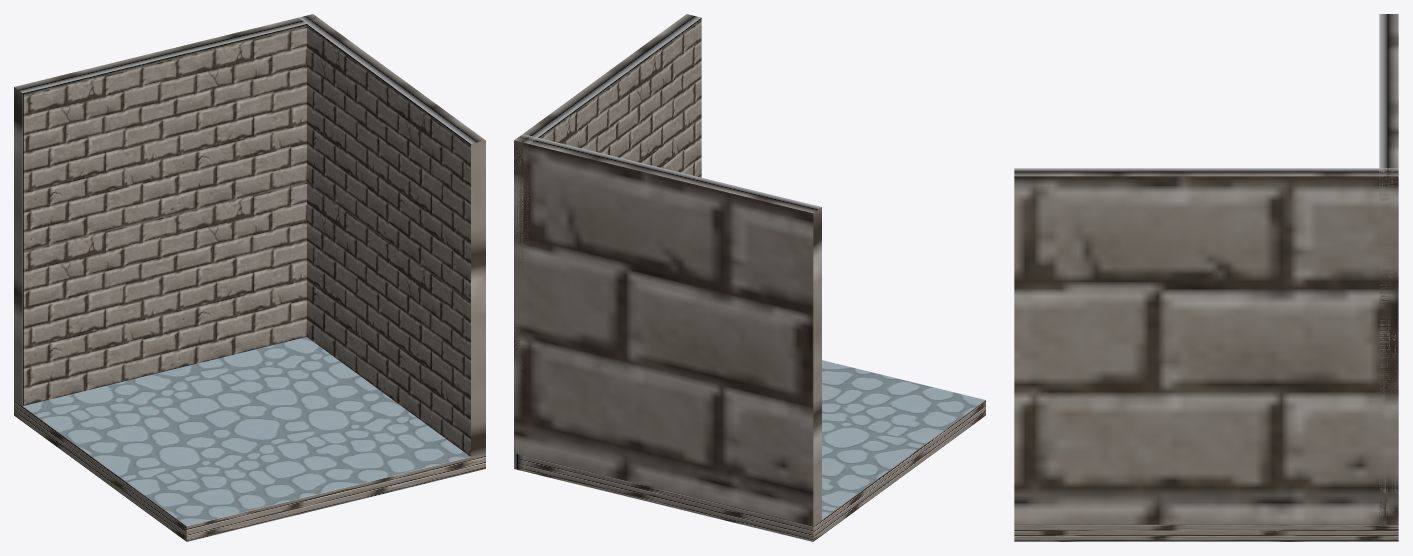
File: Block.fbx
3 renders of one model, left to right at view 1: azimuth 30°, elevation 25°; view 2: azimuth 150°, elevation 25°; view 3: azimuth 270°, elevation 25°, orthographic. The views are drawn at different scales.
Parts seen in each view (by area): view 1: wall_1, wall, ground; view 2: wall_1, ground, wall; view 3: wall, ground, wall_1.
Boxes of the visible parts, left/top/right/bottom form: wall_1: left=14, top=14, right=320, bottom=405; wall: left=299, top=14, right=485, bottom=456; ground: left=14, top=337, right=485, bottom=541; wall_1: left=514, top=134, right=821, bottom=526; ground: left=514, top=360, right=985, bottom=541; wall: left=514, top=14, right=701, bottom=453; wall: left=1014, top=168, right=1398, bottom=524; ground: left=1014, top=524, right=1398, bottom=541; wall_1: left=1379, top=14, right=1398, bottom=524.
Bounding box in the file's own units: 12.5 × 13.12 × 12.5.
1 material, 1 textured.
